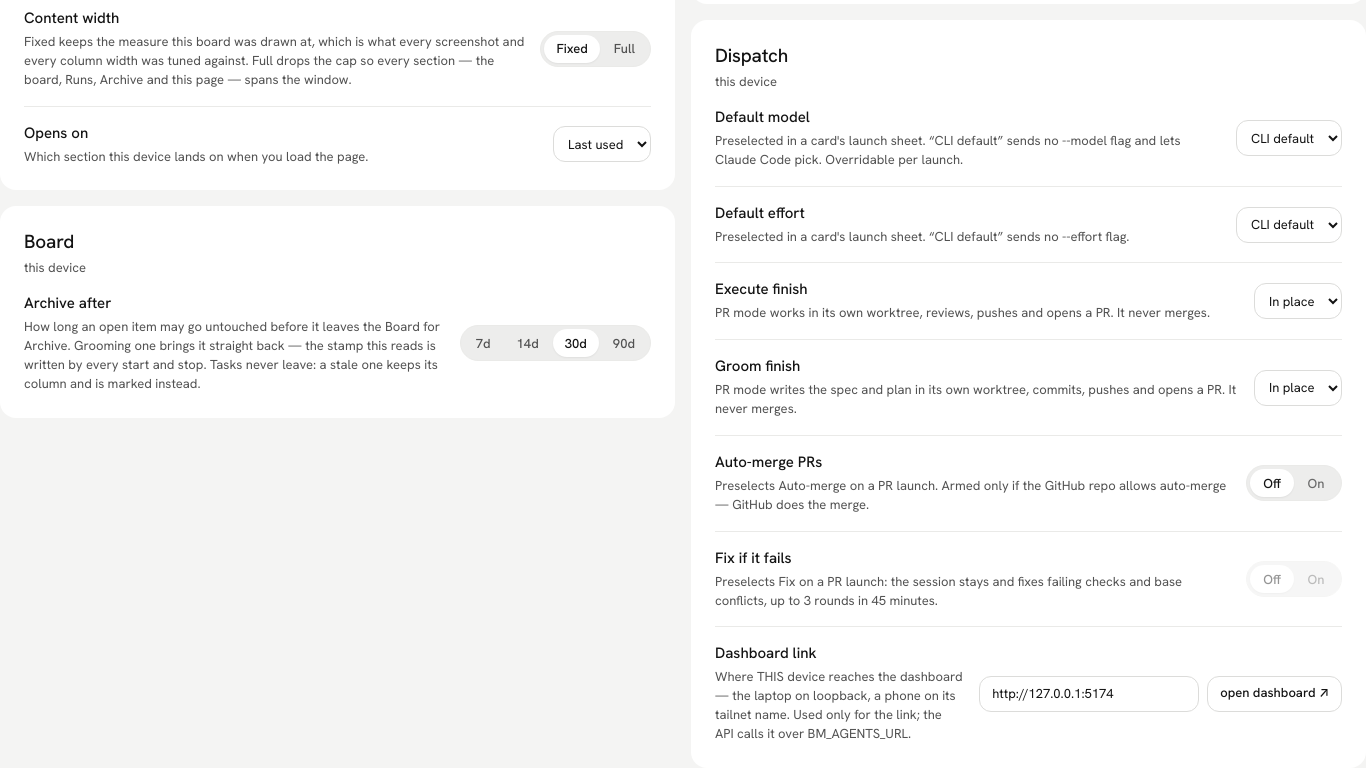
Scenario: SettingsView › the Dispatch group · Local › stores an edited dashboard link and refuses a bad scheme
(page scrolled)
Replace the text in the field named "Dashboard link" with "https://box.ts.net:5174/" at {"x": 1089, "y": 694}, box [979,676,1199,712]
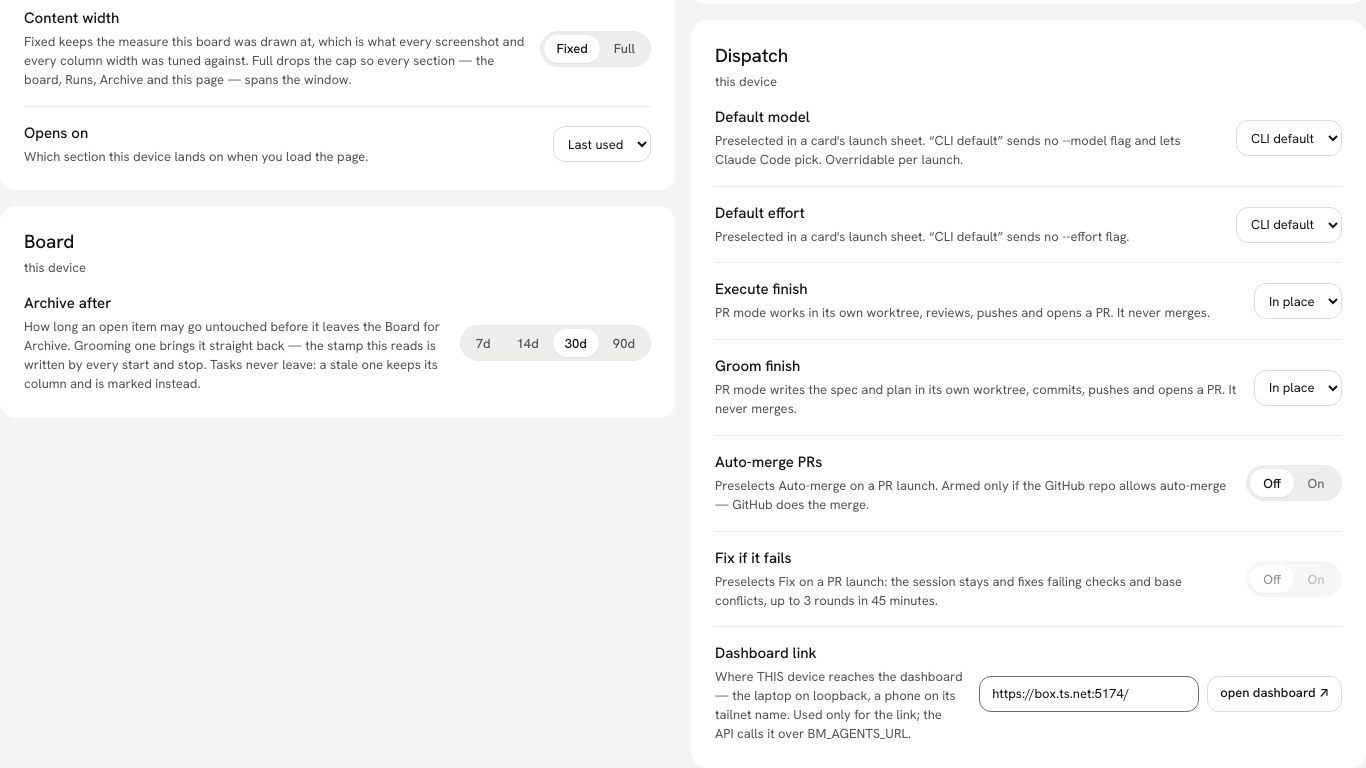
Press Tab
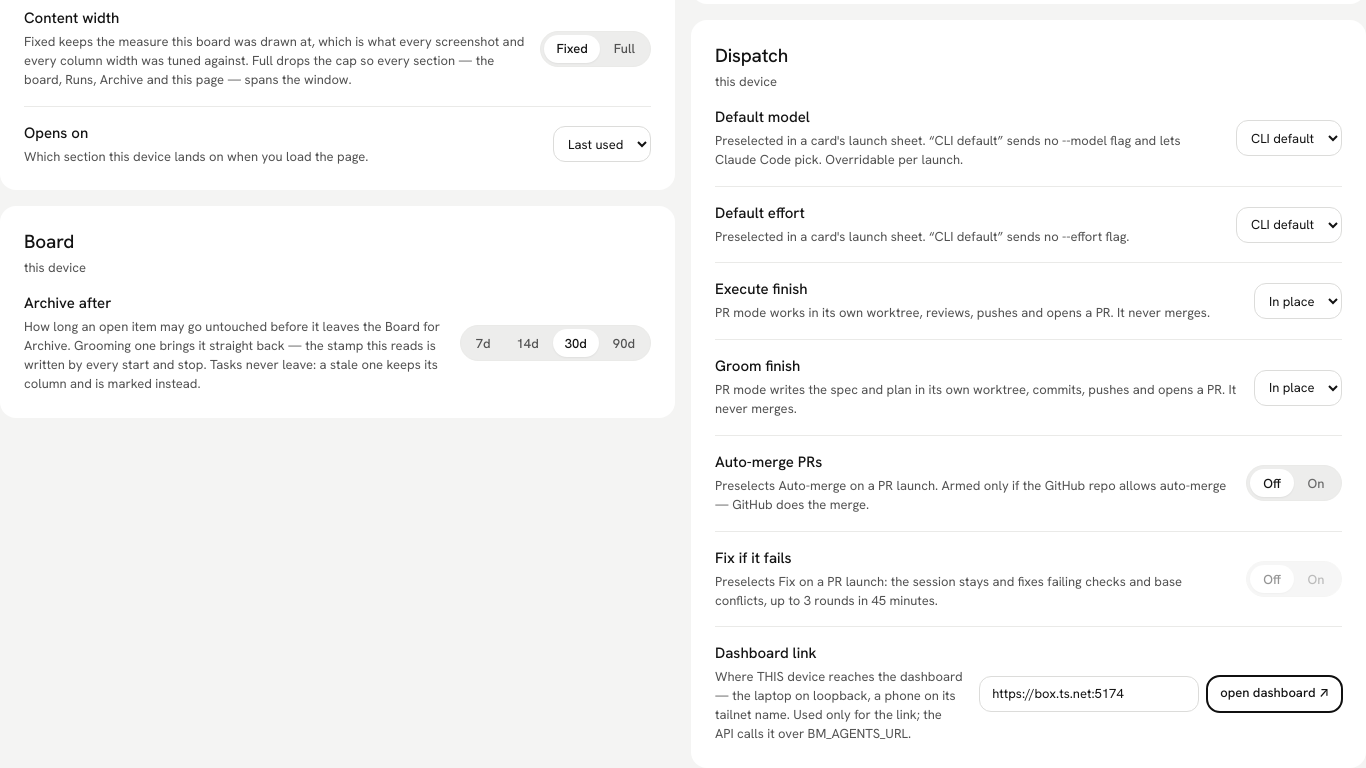
Now the field named "Dashboard link" holds "https://box.ts.net:5174"
Replace the text in the field named "Dashboard link" with "javascript:alert(1)" at {"x": 1089, "y": 694}, box [979,676,1199,712]
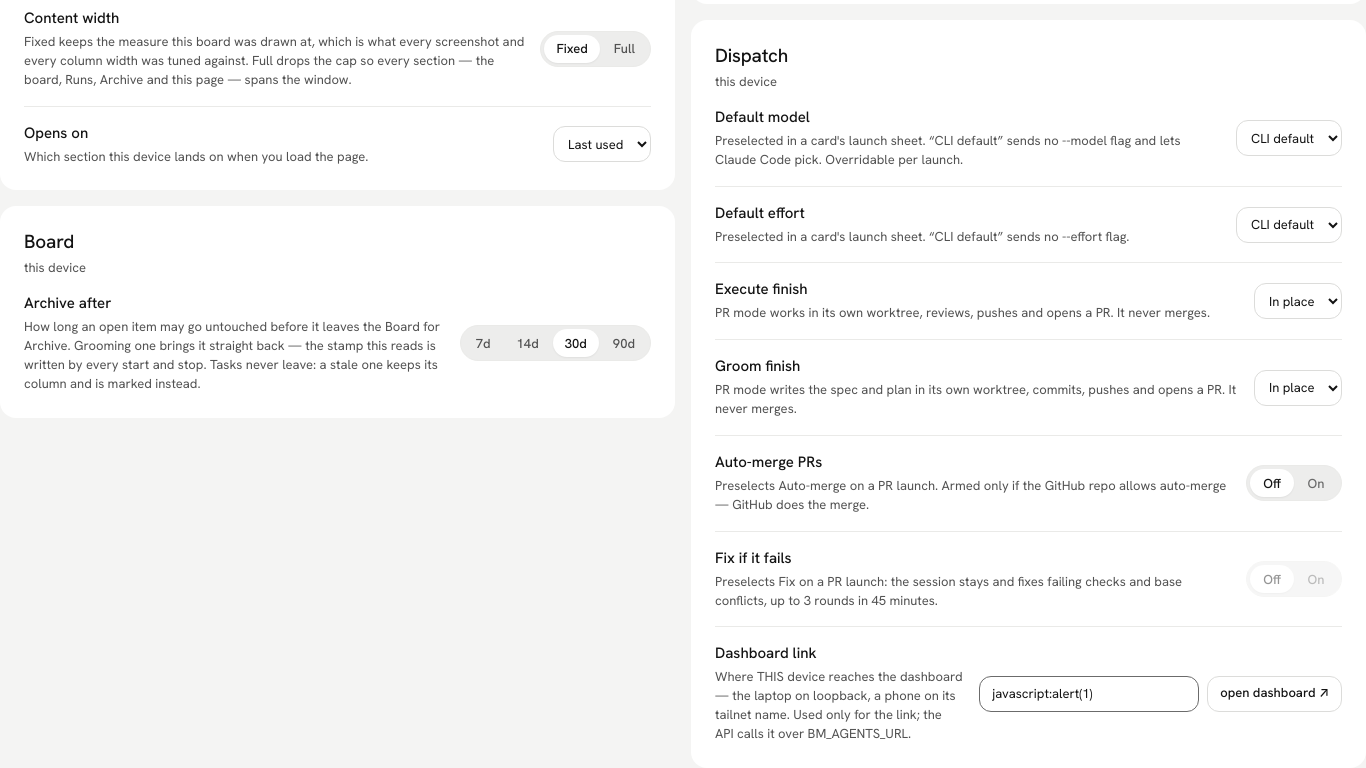
Press Tab
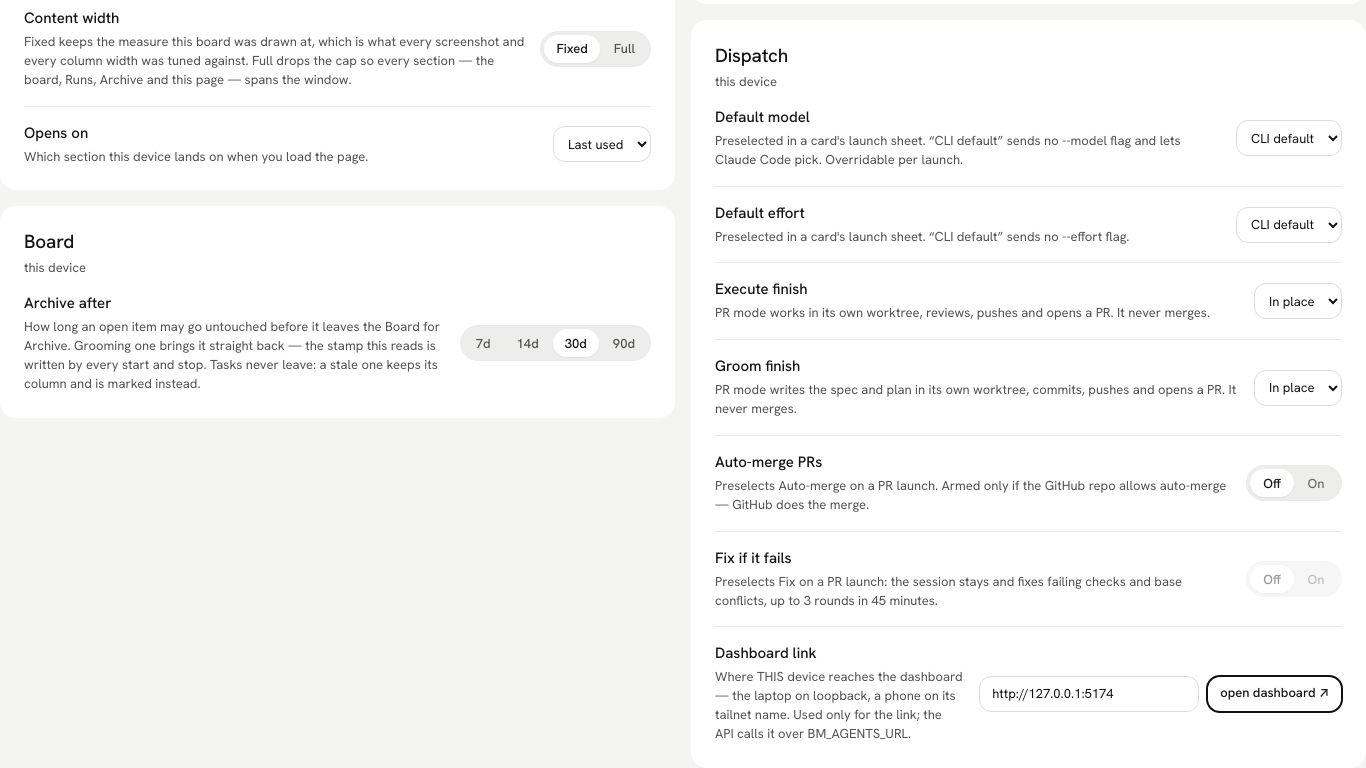
Now the field named "Dashboard link" holds "http://127.0.0.1:5174", box [979,676,1199,712]
